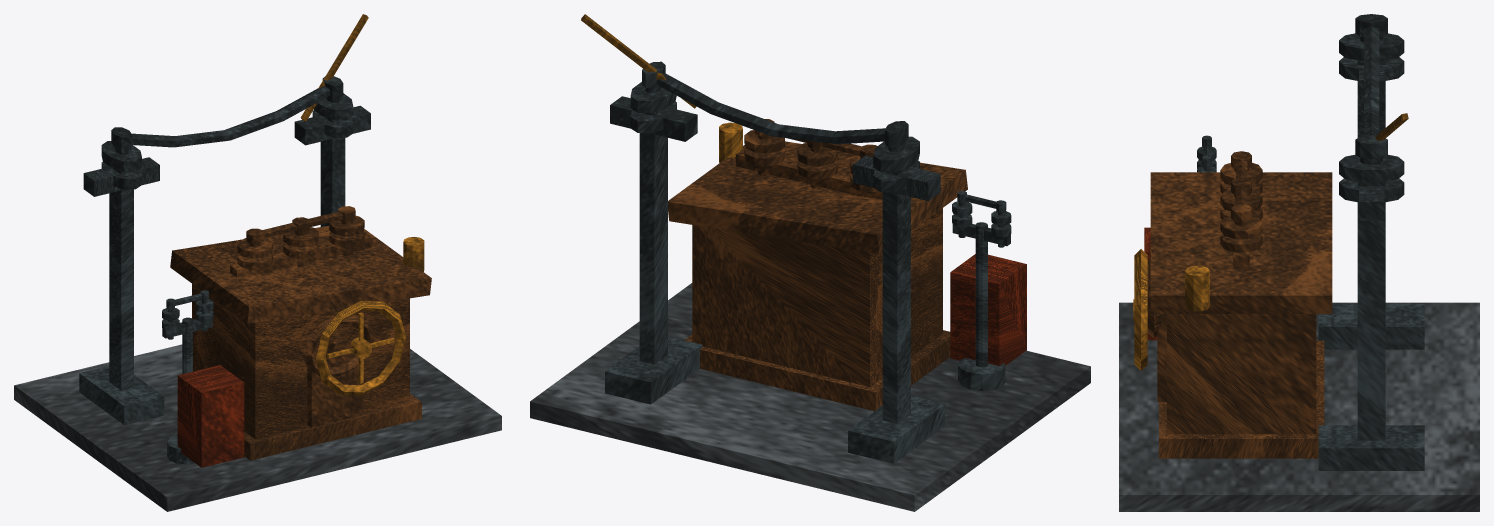
The model's file is east-switchback-line-house.glb.
3 views of the same model, side by side, from view 1: azimuth 30°, elevation 25°; view 2: azimuth 150°, elevation 25°; view 3: azimuth 270°, elevation 25° (orthographic). The views are drawn at different scales.
Visible parts, largest first — view 1: east-switchback-line-house; view 2: east-switchback-line-house; view 3: east-switchback-line-house.
Boxes of the visible parts, box(x1,y1,x2,y2) form: east-switchback-line-house: box(14, 14, 501, 511); east-switchback-line-house: box(530, 14, 1090, 511); east-switchback-line-house: box(1119, 14, 1479, 511).
Size of the model in its own units: 5.8 by 5.48 by 4.6.
1 material, 1 textured.
